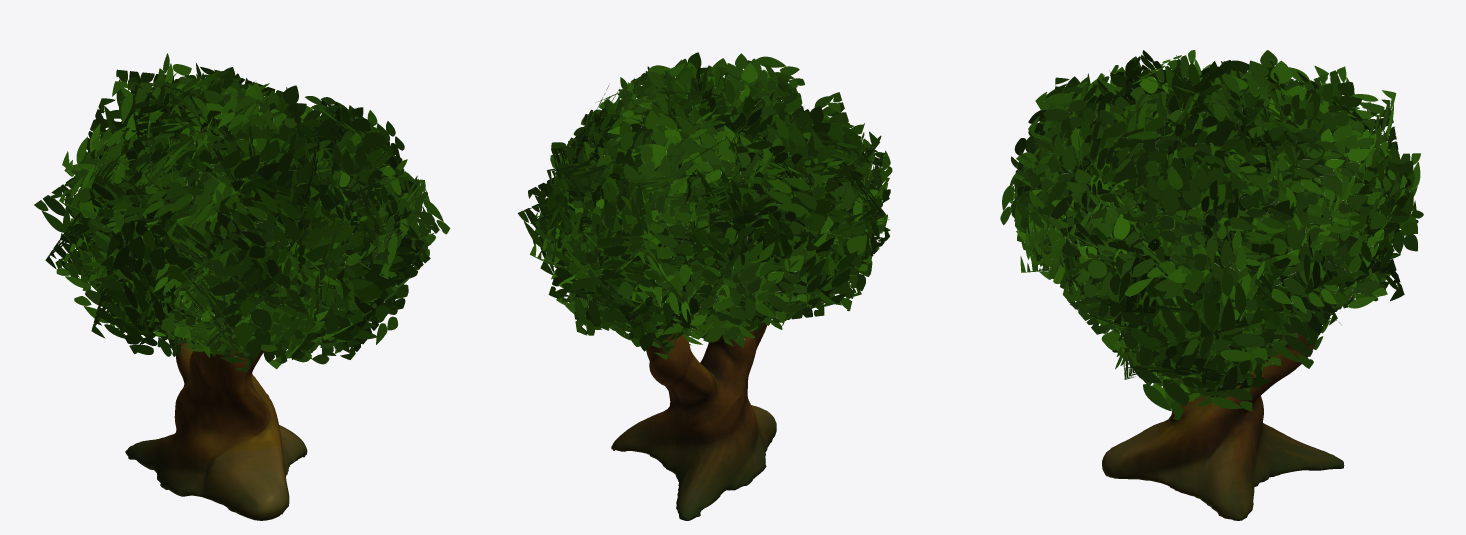
Rendered from tree1.fbx.
3 views of the same model, side by side, from view 1: azimuth 30°, elevation 25°; view 2: azimuth 150°, elevation 25°; view 3: azimuth 270°, elevation 25° (orthographic). The views are drawn at different scales.
Parts seen in each view (by area): view 1: Tree_high.001, Tree_high.173, Tree_high.231, Tree_high.468, Tree_high.554, Tree_high.235, Tree_high.161, Tree_high.547, Tree_high.232, Tree_high.592, Tree_high.140, Tree_high.176 (+61 smaller); view 2: Tree_high.001, Tree_high.974, Tree_high.298, Tree_high.961, Tree_high.302, Tree_high.275, Tree_high.307, Tree_high.285, Tree_high.240, Tree_high.995, Tree_high.982, Tree_high.571 (+55 smaller); view 3: Tree_high.001, Tree_high.421, Tree_high.440, Tree_high.731, Tree_high.410, Tree_high.431, Tree_high.411, Tree_high.409, Tree_high.758, Tree_high.389, Tree_high.369, Tree_high.447 (+64 smaller).
Boxes of the visible parts, x1,y1,x2,y2 form: Tree_high.001: (125, 339, 307, 520); Tree_high.173: (200, 264, 301, 358); Tree_high.231: (113, 222, 196, 303); Tree_high.468: (331, 134, 382, 222); Tree_high.554: (212, 139, 303, 232); Tree_high.235: (108, 262, 181, 350); Tree_high.161: (207, 196, 278, 296); Tree_high.547: (250, 153, 339, 237); Tree_high.232: (101, 209, 182, 279); Tree_high.592: (218, 86, 296, 146); Tree_high.140: (271, 280, 363, 350); Tree_high.176: (209, 196, 284, 280); Tree_high.001: (611, 323, 776, 520); Tree_high.974: (640, 212, 704, 298); Tree_high.298: (691, 227, 777, 304); Tree_high.961: (623, 137, 709, 232); Tree_high.302: (680, 125, 771, 197); Tree_high.275: (755, 172, 823, 255); Tree_high.307: (691, 260, 766, 342); Tree_high.285: (734, 241, 804, 326); Tree_high.240: (815, 219, 867, 311); Tree_high.995: (596, 223, 645, 295); Tree_high.982: (597, 170, 683, 243); Tree_high.571: (699, 53, 778, 121); Tree_high.001: (1102, 333, 1344, 520); Tree_high.421: (1143, 166, 1225, 269); Tree_high.440: (1073, 205, 1169, 297); Tree_high.731: (1291, 129, 1374, 212); Tree_high.410: (1143, 235, 1221, 345); Tree_high.431: (1102, 125, 1198, 201); Tree_high.411: (1158, 266, 1262, 347); Tree_high.409: (1154, 221, 1246, 315); Tree_high.758: (1261, 208, 1362, 289); Tree_high.389: (1171, 261, 1267, 361); Tree_high.369: (1223, 145, 1297, 230); Tree_high.447: (1123, 315, 1199, 420).
Bounding box in the file's own units: 1327 × 1428 × 1330.
Materials: 2 (2 with a texture image).
